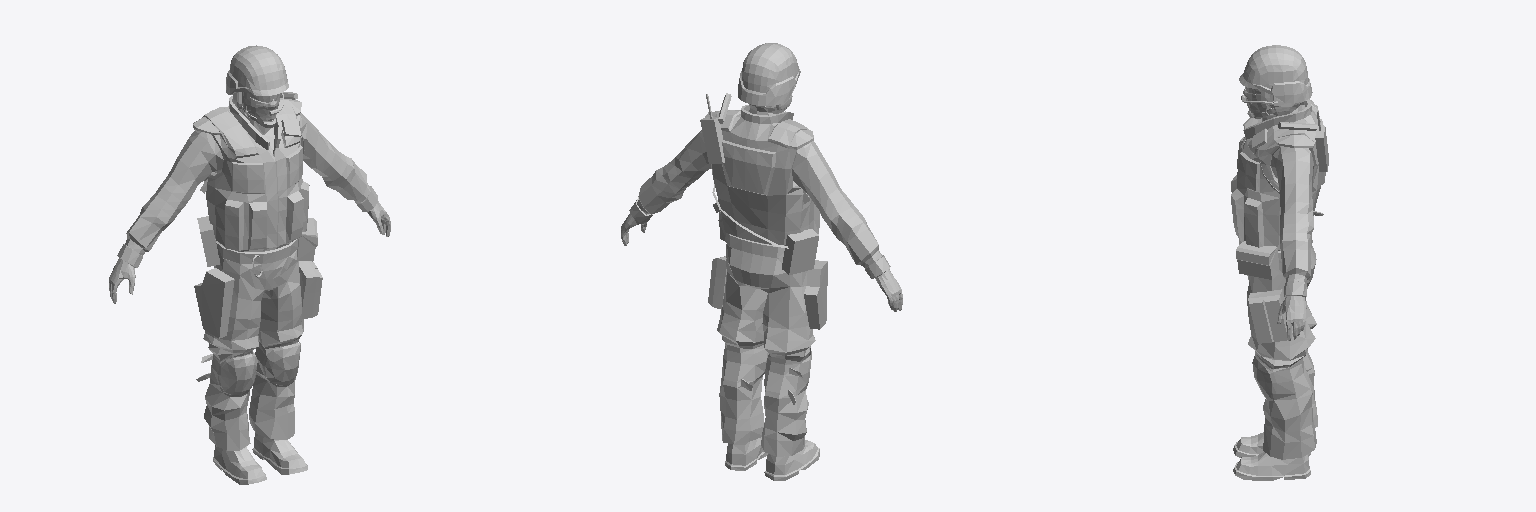
File: CTUrban.obj
3 views of the same model, side by side, from view 1: azimuth 30°, elevation 25°; view 2: azimuth 150°, elevation 25°; view 3: azimuth 270°, elevation 25° (orthographic).
Visible parts, largest first — view 1: ct_urban; view 2: ct_urban; view 3: ct_urban.
Part boxes in pixels (bbox=[...]): ct_urban: bbox=[109, 45, 390, 484]; ct_urban: bbox=[621, 43, 902, 480]; ct_urban: bbox=[1231, 45, 1328, 480].
Bounding box in the file's own units: 54.3 × 77.68 × 16.69.